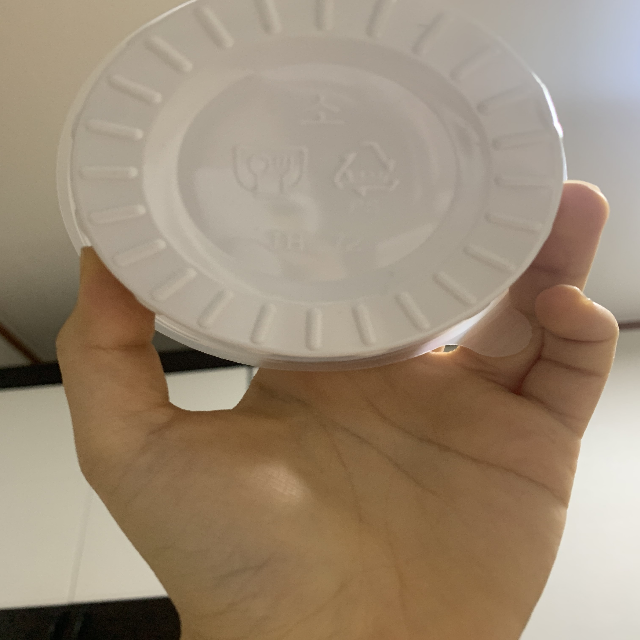ps: (330, 134, 404, 222)
